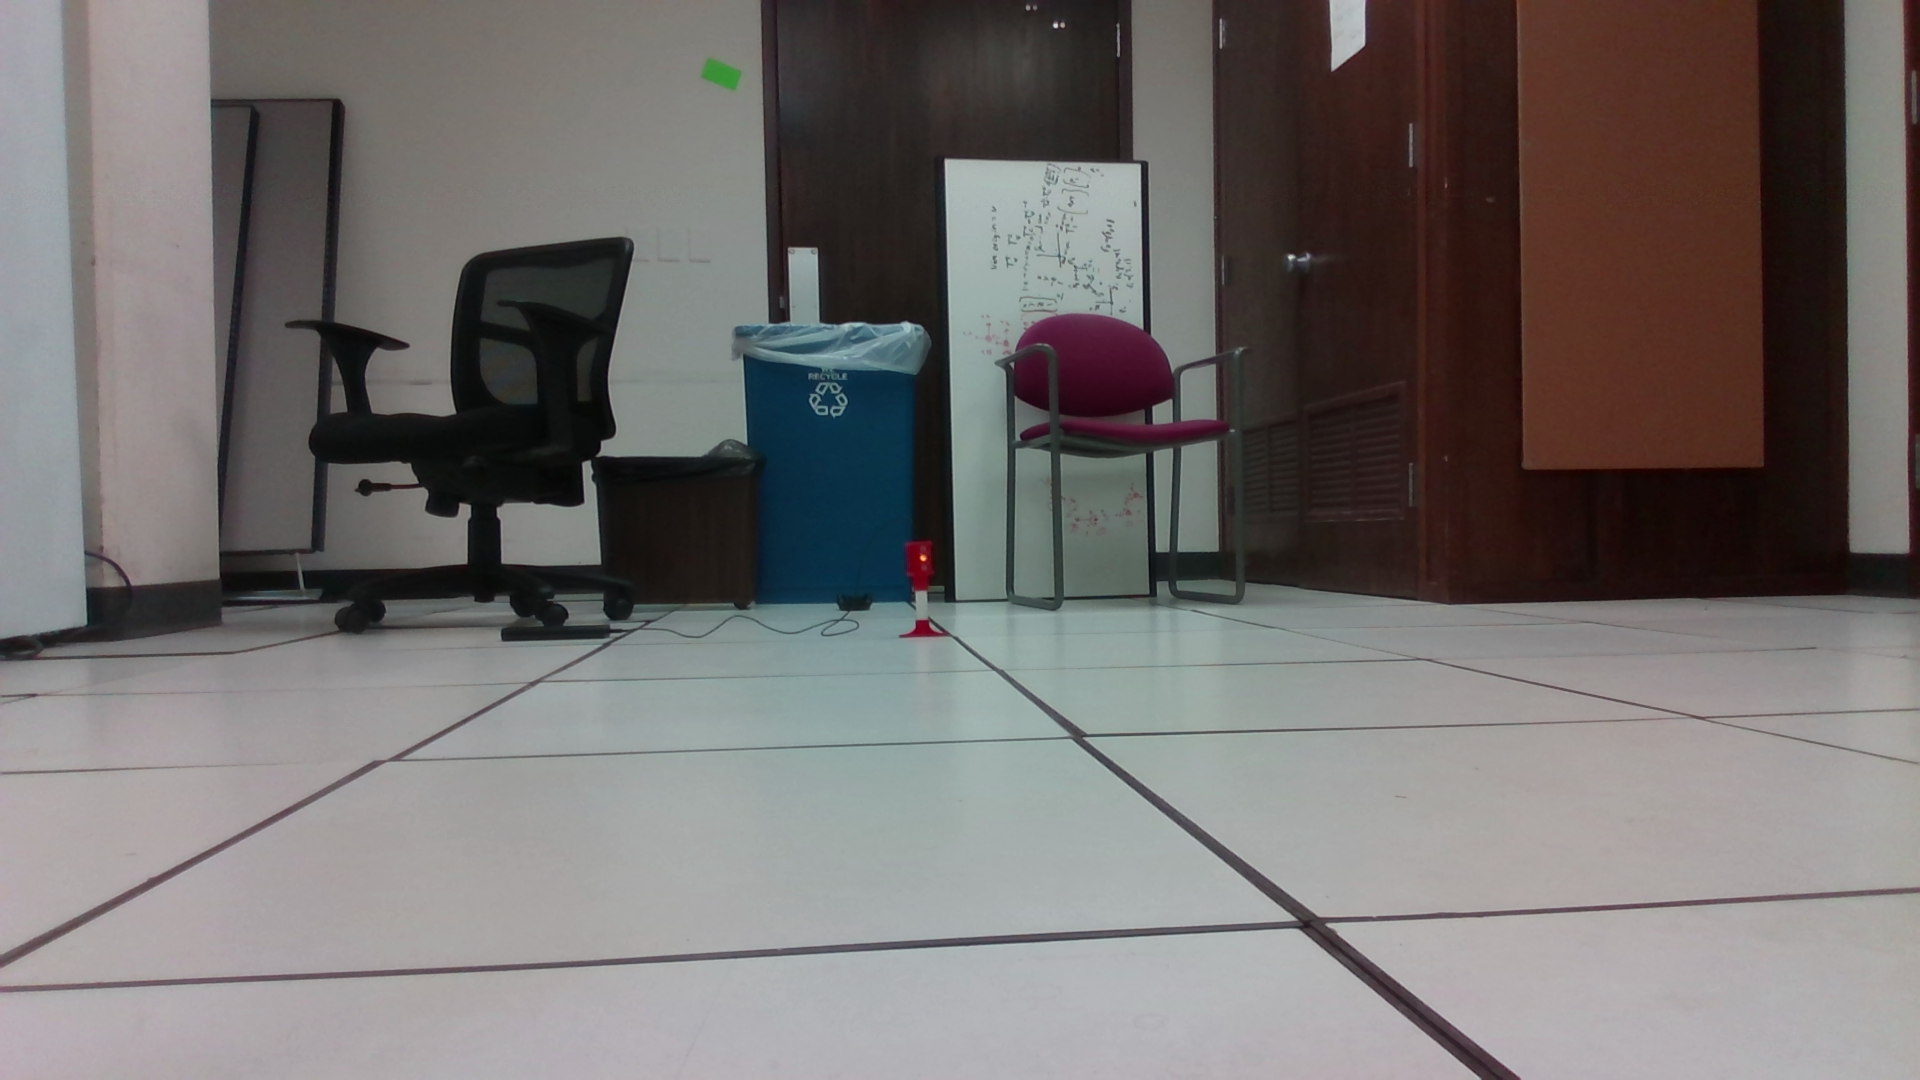stoplight: (903, 541, 936, 592)
